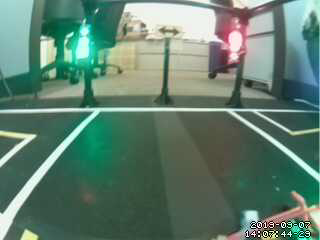Left_Right_sign: (152, 22, 189, 40)
Traffic_light_green: (76, 25, 90, 63)
Traffic_light_red: (224, 27, 249, 64)
